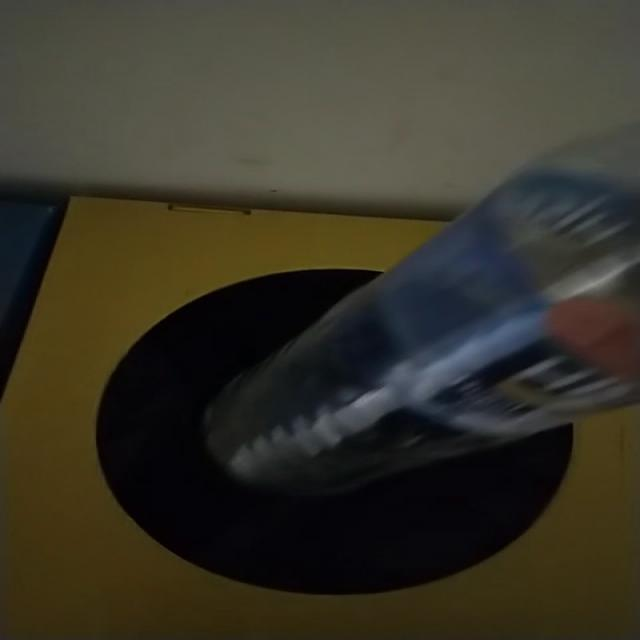Plastic: (205, 128, 640, 496)
